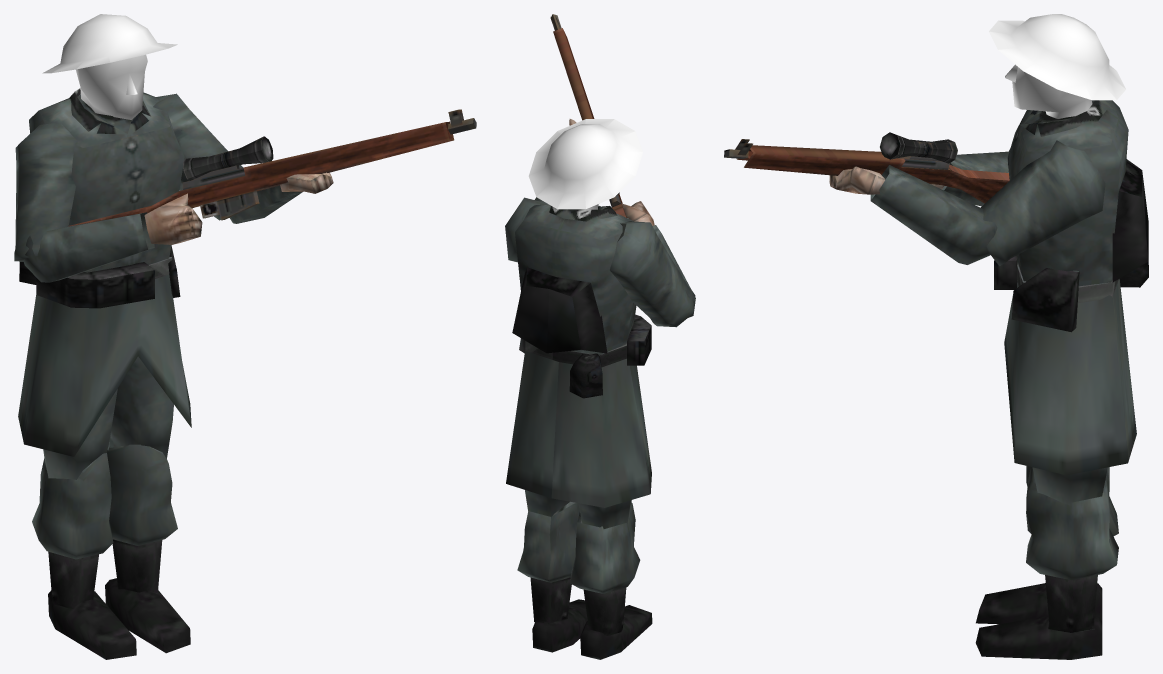
Rendered from britinfsnip.dae.
3 renders of one model, left to right at view 1: azimuth 30°, elevation 25°; view 2: azimuth 150°, elevation 25°; view 3: azimuth 270°, elevation 25°, orthographic. The views are drawn at different scales.
Parts seen in each view (by area): view 1: torso, gun, rloleg, lloleg, head, ruparm, rloarm, lupleg, lfoot, rfoot, luparm, rupleg (+3 smaller); view 2: torso, head, rloleg, ruparm, lloleg, rfoot, lfoot, gun, rupleg, luparm, lupleg, rhand (+1 smaller); view 3: torso, head, lloleg, luparm, gun, lloarm, lfoot, rfoot, lupleg, rloarm, lhand.
Boxes of the visible parts, x1,y1,x2,y2 form: torso: [18, 88, 191, 456]; gun: [68, 109, 476, 226]; rloleg: [32, 453, 113, 608]; lloleg: [107, 443, 177, 593]; head: [42, 14, 177, 119]; ruparm: [14, 123, 77, 261]; rloarm: [23, 212, 154, 282]; lupleg: [109, 356, 173, 458]; lfoot: [105, 578, 190, 653]; rfoot: [48, 590, 136, 659]; luparm: [153, 93, 242, 220]; rupleg: [43, 389, 117, 479]; torso: [506, 204, 651, 507]; head: [528, 119, 642, 209]; rloleg: [570, 502, 640, 636]; ruparm: [610, 221, 695, 327]; lloleg: [517, 501, 579, 624]; rfoot: [580, 605, 652, 659]; lfoot: [532, 599, 587, 652]; gun: [550, 14, 627, 217]; rupleg: [578, 500, 631, 528]; luparm: [505, 197, 547, 262]; lupleg: [525, 490, 569, 516]; rhand: [621, 201, 654, 225]; torso: [994, 100, 1148, 475]; head: [989, 14, 1125, 118]; lloleg: [1026, 467, 1118, 632]; luparm: [980, 140, 1105, 266]; gun: [724, 132, 1009, 203]; lloarm: [870, 165, 997, 264]; lfoot: [975, 615, 1102, 659]; rfoot: [976, 583, 1102, 624]; lupleg: [1032, 467, 1107, 505]; rloarm: [942, 151, 1009, 206]; lhand: [829, 166, 885, 194].
Size of the model in its own units: 12.12 by 13.96 by 22.39.
3 materials, 1 textured.
